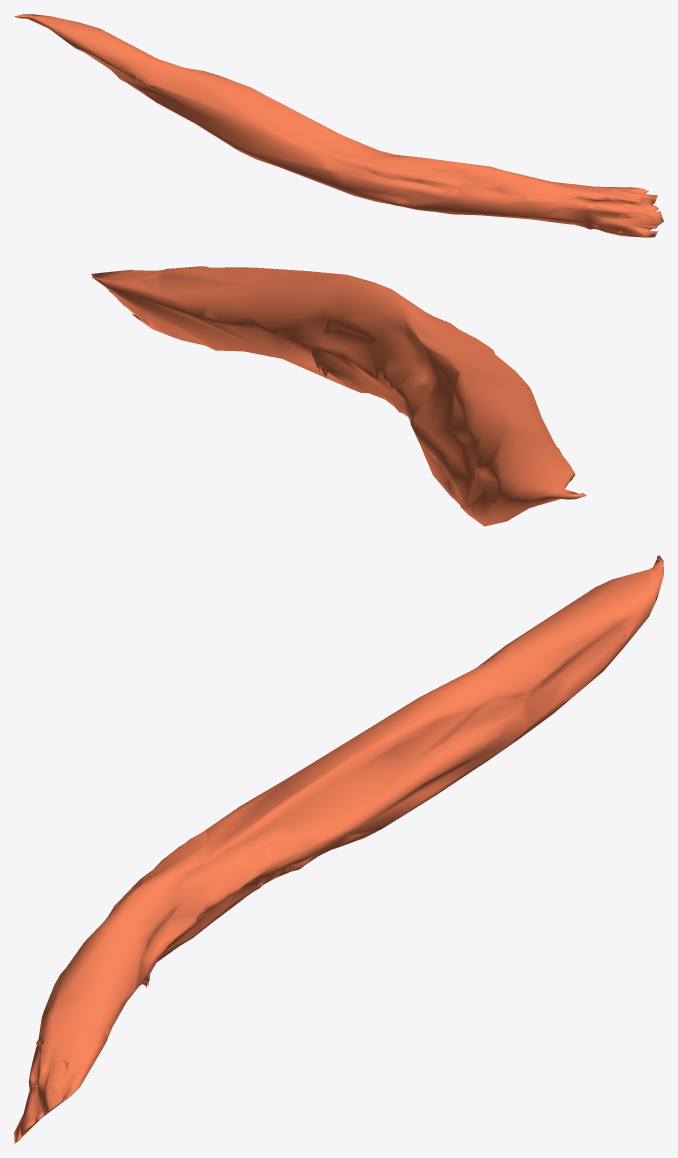
Rendered from Subclavius_muscle.r_Generated_Mesh_From_X3D.188.glb.
The picture shows the model from 3 angles, top to bottom: view 1: azimuth 30°, elevation 25°; view 2: azimuth 150°, elevation 25°; view 3: azimuth 270°, elevation 25°; orthographic projection. The views are drawn at different scales.
Visible parts, largest first — view 1: Subclavius_muscle.r_Generated_Mesh_From_X3D.188; view 2: Subclavius_muscle.r_Generated_Mesh_From_X3D.188; view 3: Subclavius_muscle.r_Generated_Mesh_From_X3D.188.
Part boxes in pixels (left/top/right/bottom): Subclavius_muscle.r_Generated_Mesh_From_X3D.188: left=14, top=14, right=663, bottom=237; Subclavius_muscle.r_Generated_Mesh_From_X3D.188: left=91, top=266, right=586, bottom=526; Subclavius_muscle.r_Generated_Mesh_From_X3D.188: left=14, top=555, right=663, bottom=1143.
Size of the model in its own units: 0.0749 by 0.0278 by 0.0615.
